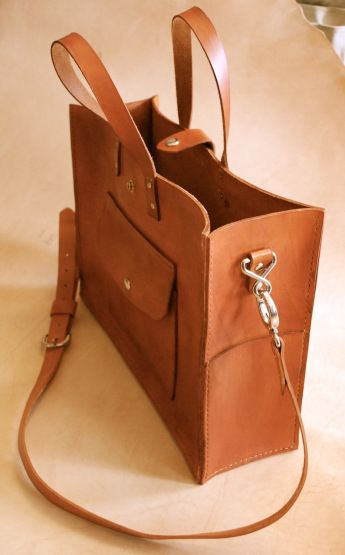cuero: (20, 5, 326, 540)
